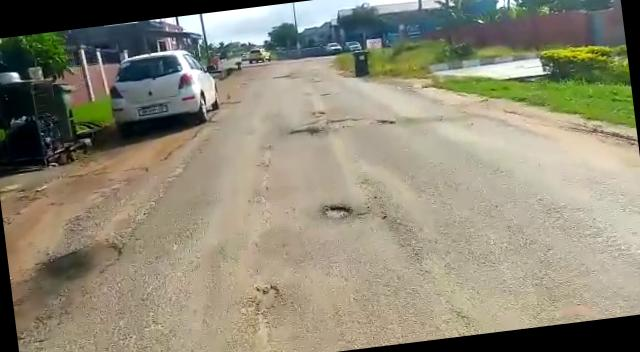pothole: (327, 112, 398, 134), (316, 200, 362, 220), (286, 124, 322, 138)
